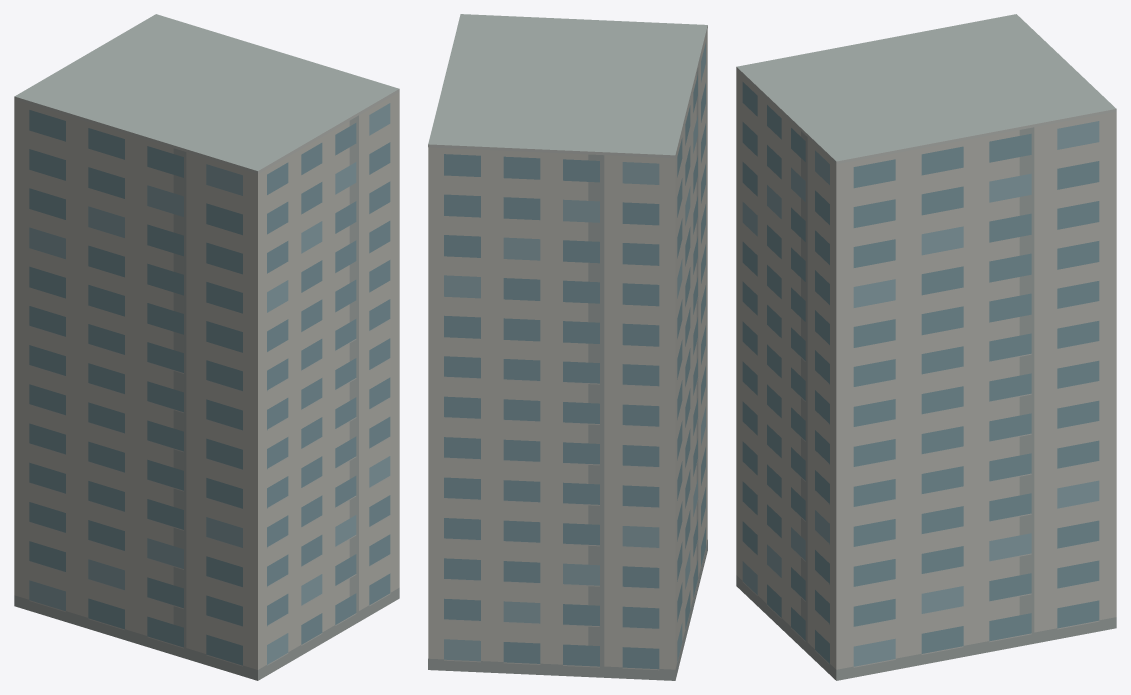
The model's file is residential-4305ea4a-fa92-400e-8544-6159af2cb099.glb.
The picture shows the model from 3 angles, left to right: view 1: azimuth 30°, elevation 25°; view 2: azimuth 150°, elevation 25°; view 3: azimuth 270°, elevation 25°; orthographic projection. The views are drawn at different scales.
Visible parts, largest first — view 1: residential-4305ea4a-fa92-400e-8544-6159af2cb099.tmp; view 2: residential-4305ea4a-fa92-400e-8544-6159af2cb099.tmp; view 3: residential-4305ea4a-fa92-400e-8544-6159af2cb099.tmp.
Part boxes in pixels (x1=…): residential-4305ea4a-fa92-400e-8544-6159af2cb099.tmp: x1=14, y1=14, x2=399, y2=680; residential-4305ea4a-fa92-400e-8544-6159af2cb099.tmp: x1=428, y1=14, x2=707, y2=680; residential-4305ea4a-fa92-400e-8544-6159af2cb099.tmp: x1=736, y1=14, x2=1116, y2=680.
Bounding box in the file's own units: 26.21 × 43 × 28.53.
